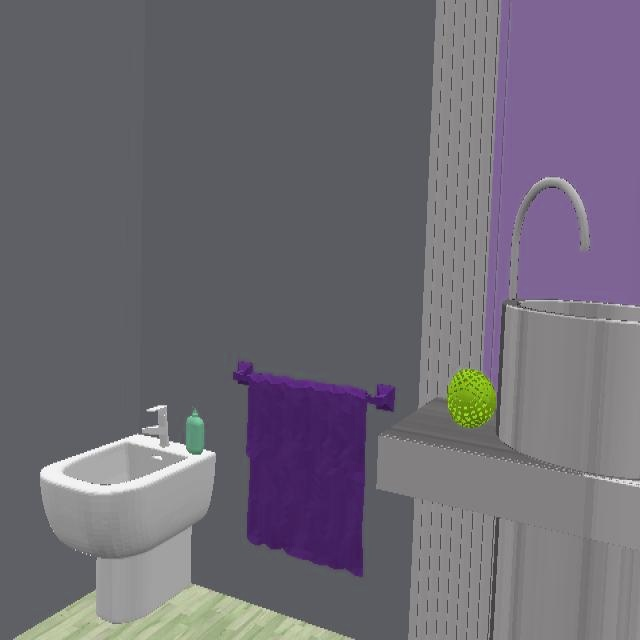washbasin: (499, 177, 640, 479), (41, 435, 216, 559)
